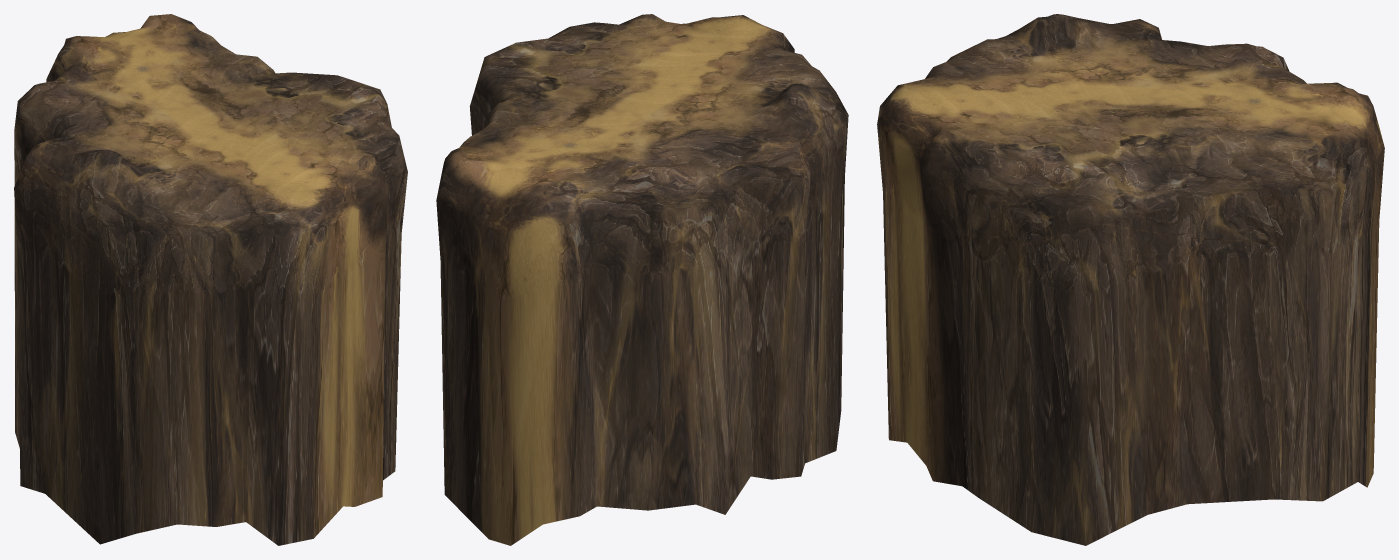
File: 10401_ground1.FBX
3 renders of one model, left to right at view 1: azimuth 30°, elevation 25°; view 2: azimuth 150°, elevation 25°; view 3: azimuth 270°, elevation 25°, orthographic. The views are drawn at different scales.
Parts seen in each view (by area): view 1: 10401_ground1; view 2: 10401_ground1; view 3: 10401_ground1.
Boxes of the visible parts, box(x1,y1,x2,y2) form: 10401_ground1: box(14, 14, 407, 545); 10401_ground1: box(436, 14, 848, 545); 10401_ground1: box(877, 14, 1384, 545).
Bounding box in the file's own units: 1246 × 1312 × 1530.
